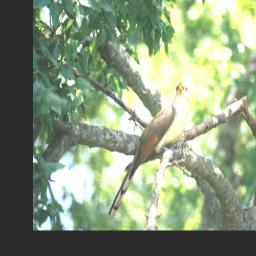Cuckoo: (105, 79, 191, 221)
